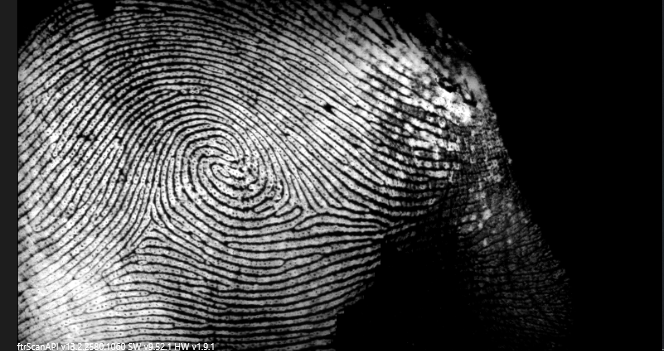nucelo: (205, 133, 240, 183)
verticilo: (137, 204, 168, 232), (296, 197, 328, 223)
